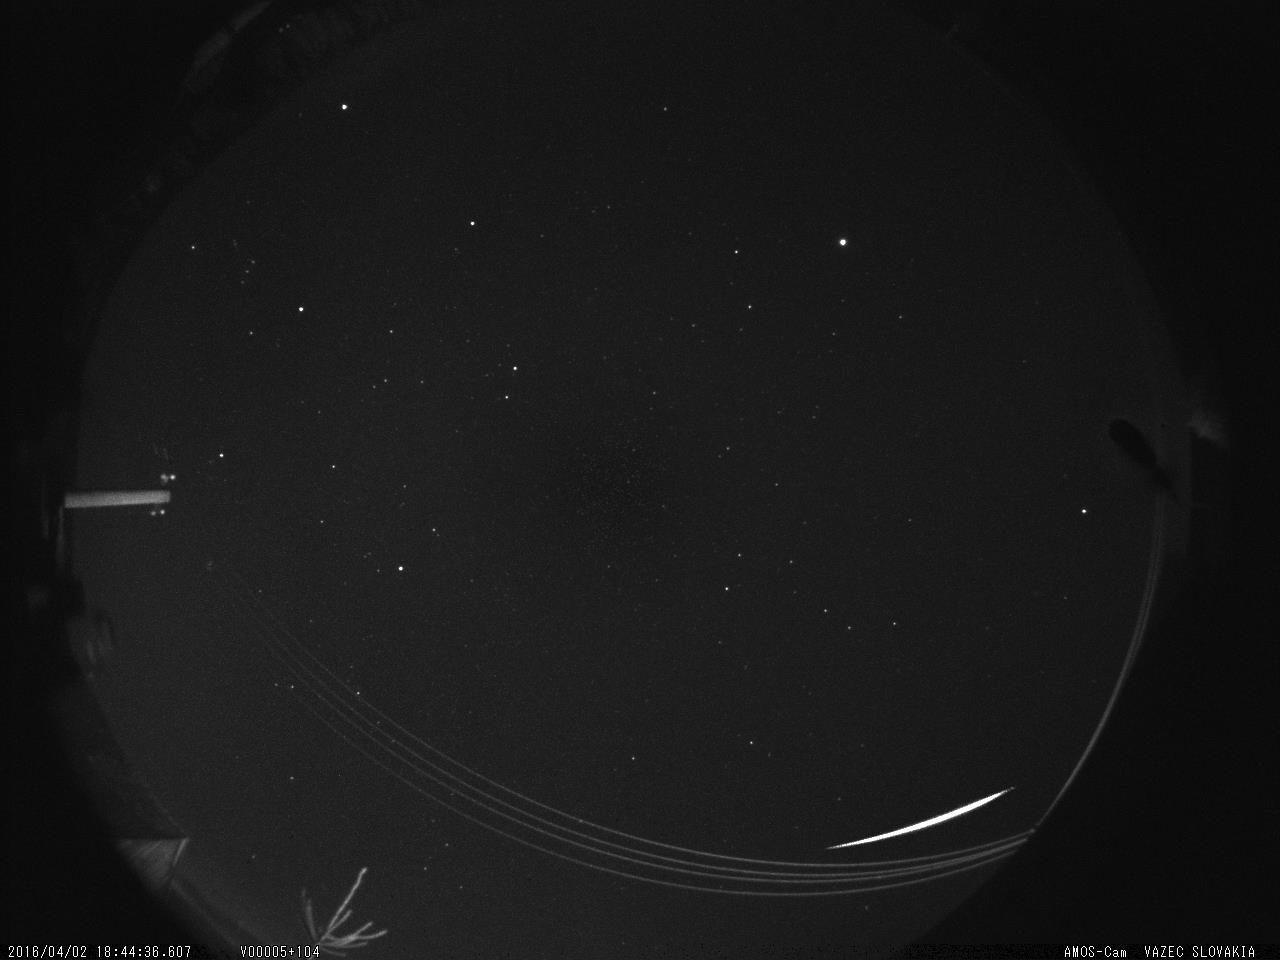meteor: (808, 771, 1042, 867)
